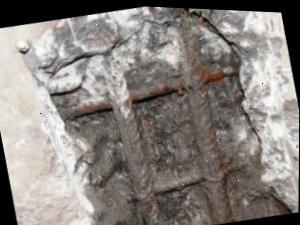exposed_rebar: (62, 12, 237, 225)
spalling: (15, 6, 299, 225)
